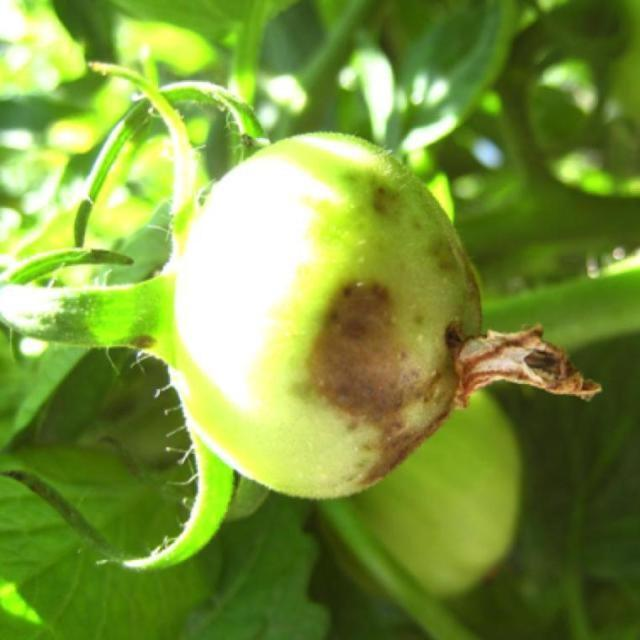Blossom End Rot Fruit: (191, 175, 311, 325)
